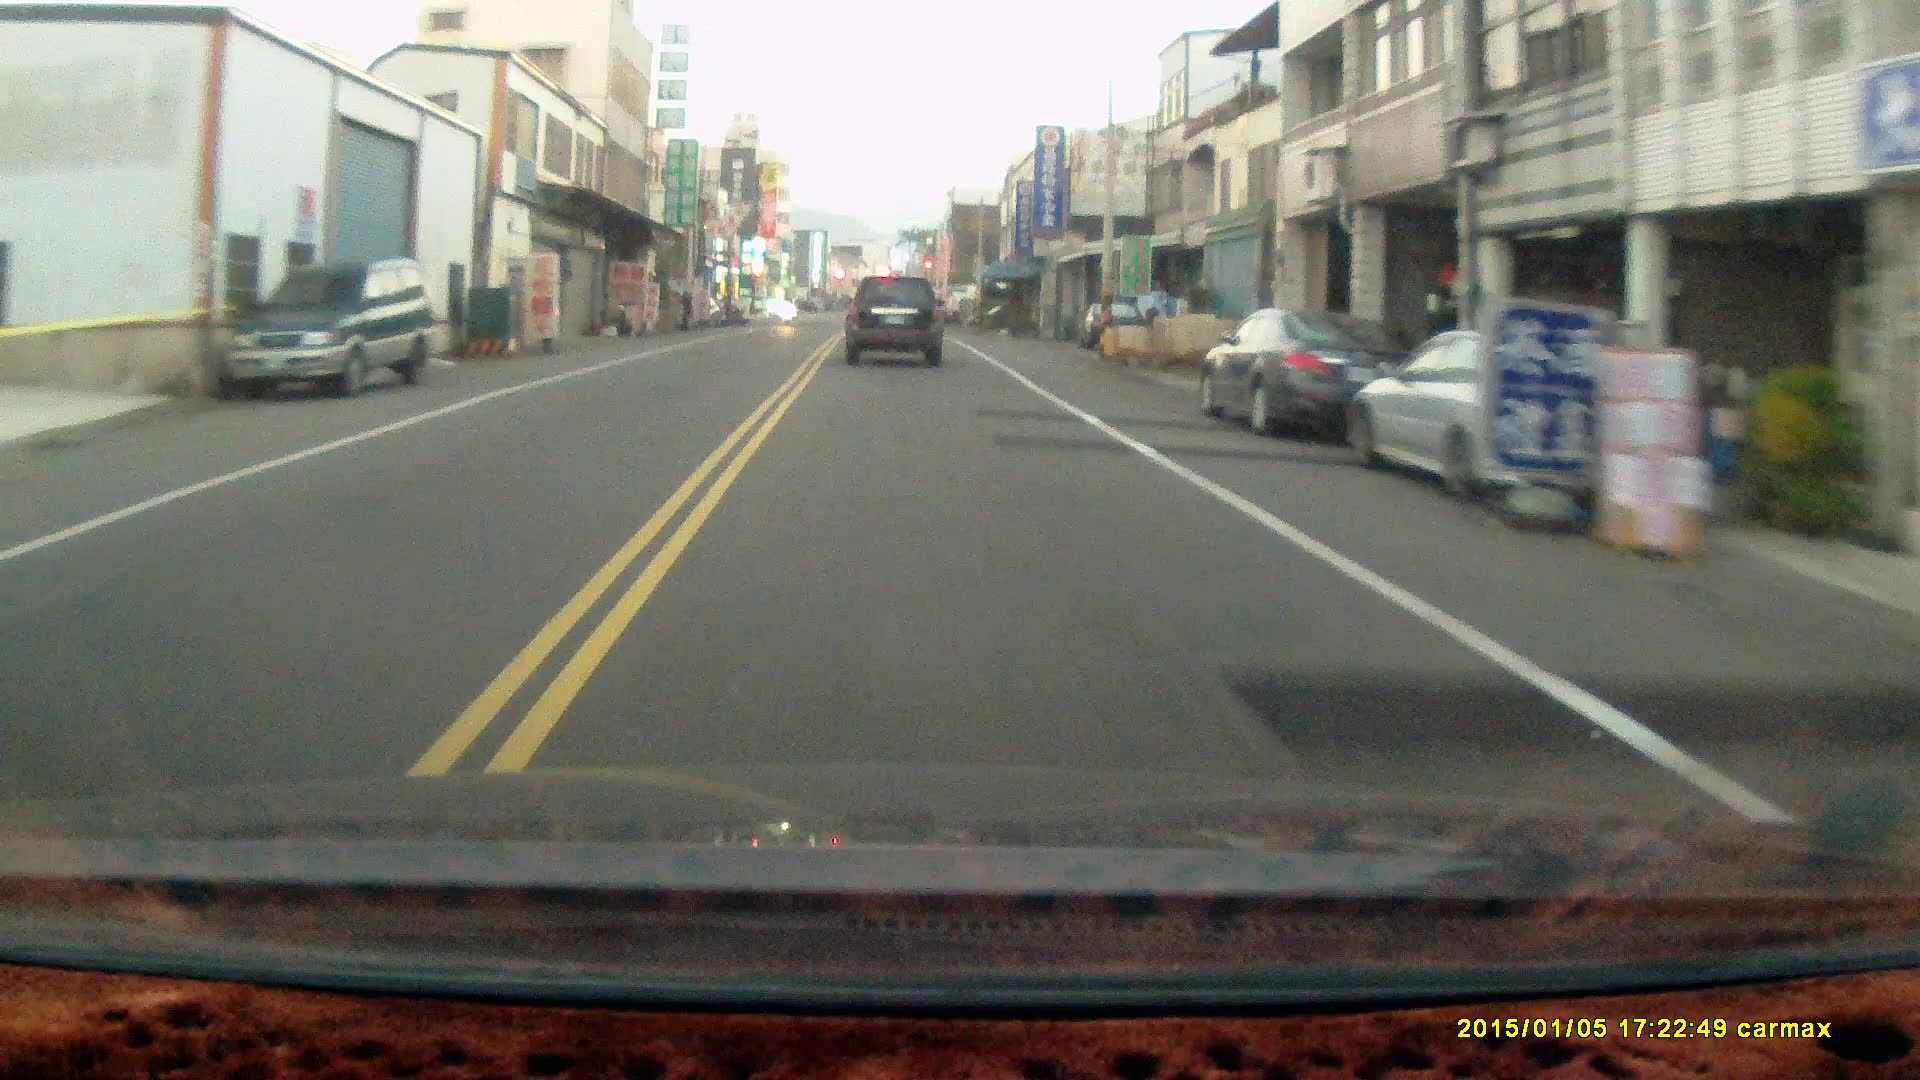pedestrian: (673, 287, 693, 332)
vehicle: (1352, 326, 1703, 507), (222, 254, 438, 400), (1197, 309, 1427, 439), (845, 276, 947, 370)
